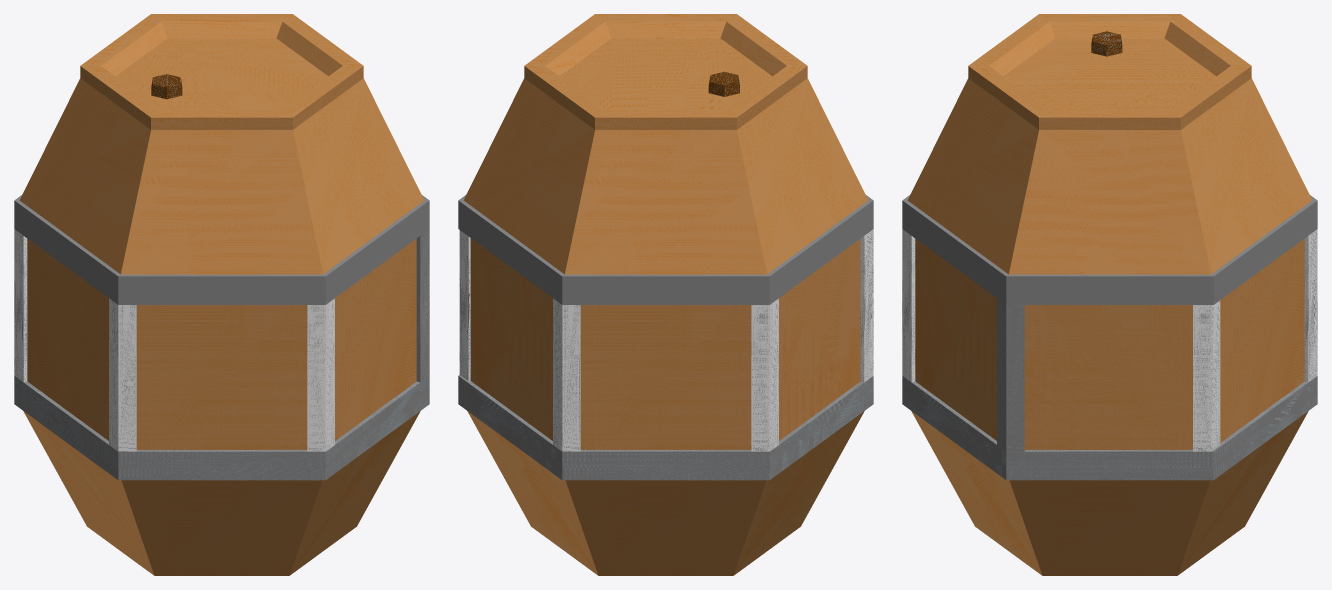
Rendered from Barrel.fbx.
3 views of the same model, side by side, from view 1: azimuth 30°, elevation 25°; view 2: azimuth 150°, elevation 25°; view 3: azimuth 270°, elevation 25° (orthographic).
Parts seen in each view (by area): view 1: Group3, Group4, Group5, Group7, Group8, Group6, Group9, Group2; view 2: Group3, Group4, Group5, Group6, Group11, Group7, Group10, Group2; view 3: Group3, Group4, Group5, Group9, Group10, Group8, Group11, Group2.
Boxes of the visible parts, bbox=[...] form: Group3: bbox=[19, 14, 424, 575]; Group4: bbox=[14, 195, 429, 304]; Group5: bbox=[14, 376, 429, 480]; Group7: bbox=[109, 298, 136, 451]; Group8: bbox=[307, 298, 334, 451]; Group6: bbox=[14, 229, 27, 382]; Group9: bbox=[416, 229, 429, 382]; Group2: bbox=[151, 74, 182, 99]; Group3: bbox=[463, 14, 868, 575]; Group4: bbox=[458, 195, 873, 304]; Group5: bbox=[458, 375, 873, 480]; Group6: bbox=[751, 298, 778, 451]; Group11: bbox=[553, 298, 580, 451]; Group7: bbox=[860, 229, 873, 382]; Group10: bbox=[459, 230, 470, 381]; Group2: bbox=[708, 71, 739, 96]; Group3: bbox=[907, 14, 1312, 575]; Group4: bbox=[902, 195, 1317, 304]; Group5: bbox=[902, 376, 1317, 480]; Group9: bbox=[997, 298, 1024, 451]; Group10: bbox=[1193, 300, 1220, 451]; Group8: bbox=[902, 229, 915, 382]; Group11: bbox=[1304, 229, 1317, 382]; Group2: bbox=[1091, 31, 1122, 56].
Bounding box in the file's own units: 600 × 848 × 692.
